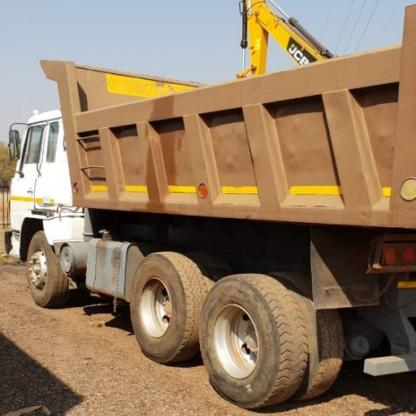dump_truck: (6, 43, 414, 406)
